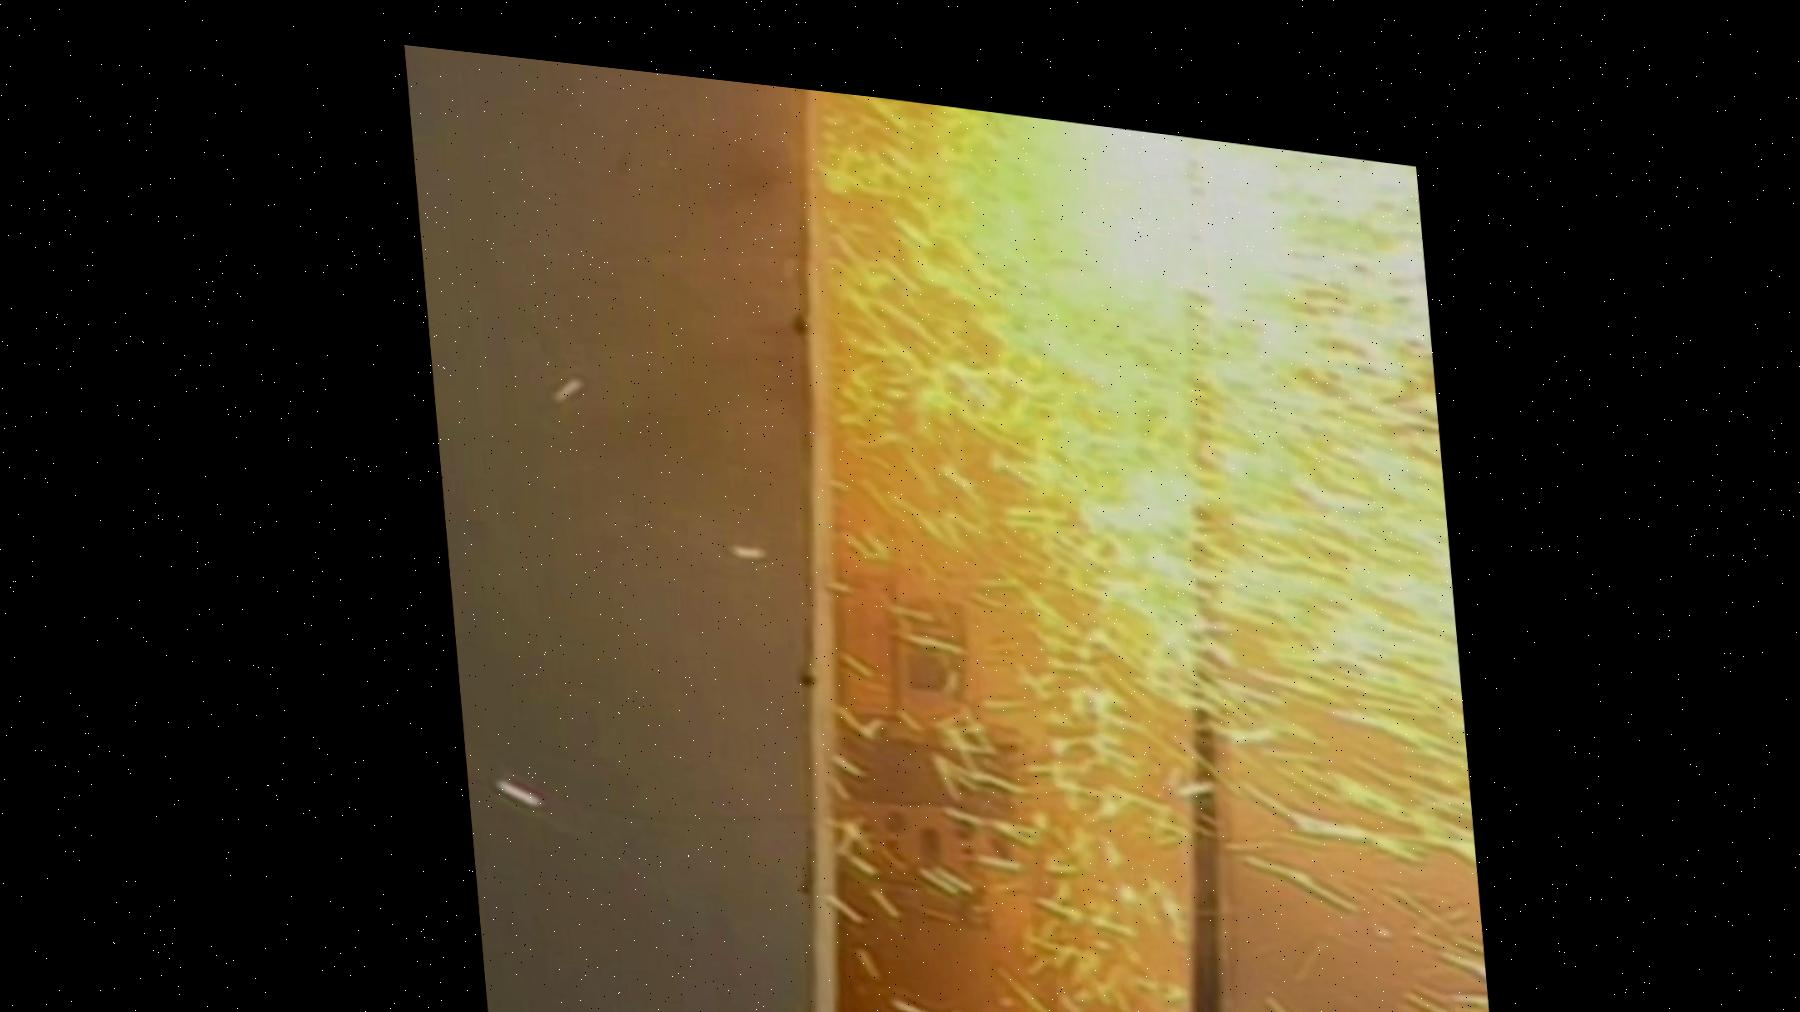fire: (796, 159, 1425, 1012)
